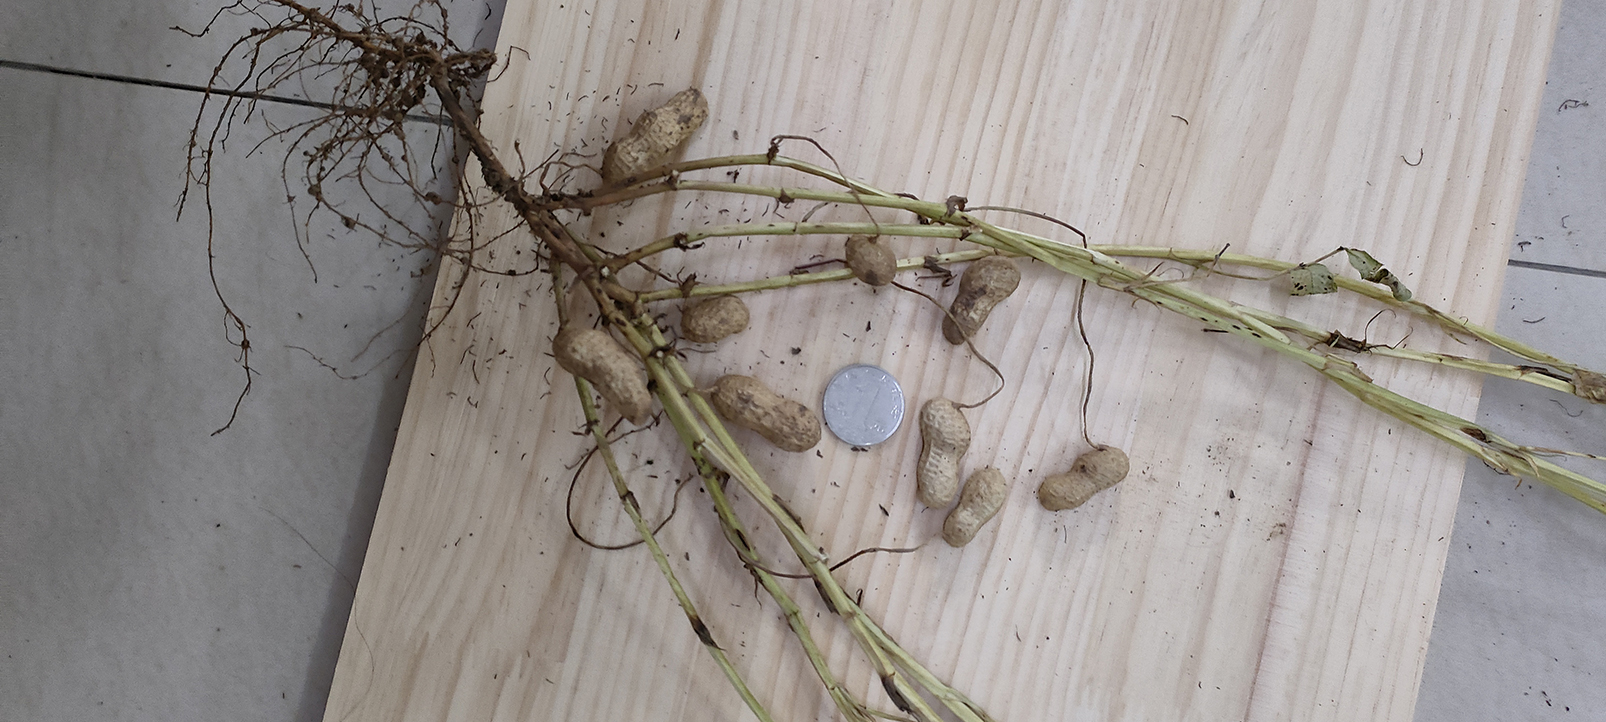h: (552, 325, 656, 428), (601, 86, 710, 183), (712, 374, 822, 453), (916, 400, 973, 510), (1038, 445, 1130, 511), (943, 465, 1008, 546), (682, 292, 750, 342), (845, 233, 896, 287)
l: (942, 255, 1023, 345)
